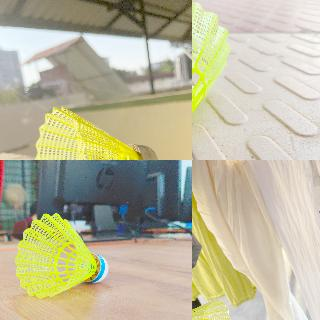shuttlecock: (14, 212, 108, 298), (34, 106, 158, 159), (192, 0, 231, 159), (192, 300, 230, 319)
